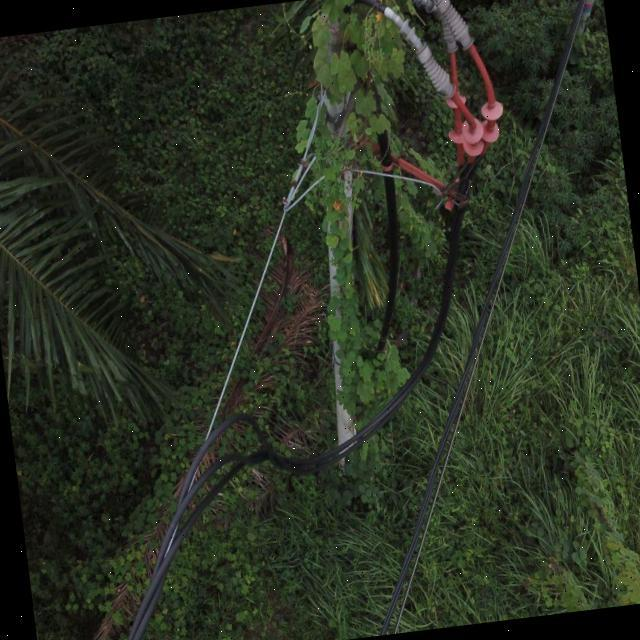critical vegetation: (258, 28, 459, 429)
